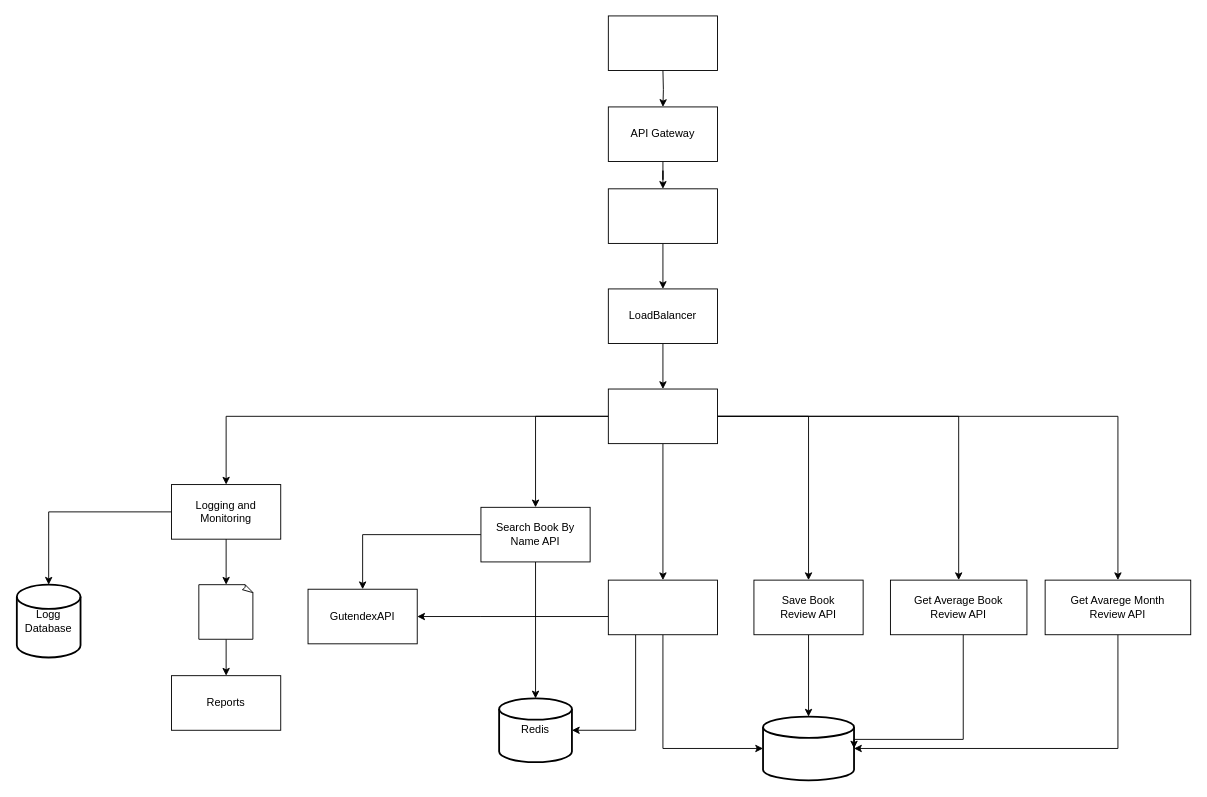
Image size: 1207x797. Some labels were removed from this diagram. Here are the shapes that lost their labels. From the top down, the box of each, then its label:
(607, 15, 718, 71): FrontEnd/Mobile
(607, 188, 718, 243): Kubernetes Cluster
(607, 388, 718, 444): Web Server
(198, 584, 253, 639): Log File
(607, 579, 718, 635): Get Detailed Book Data API
(762, 715, 854, 781): PostgresSQL
